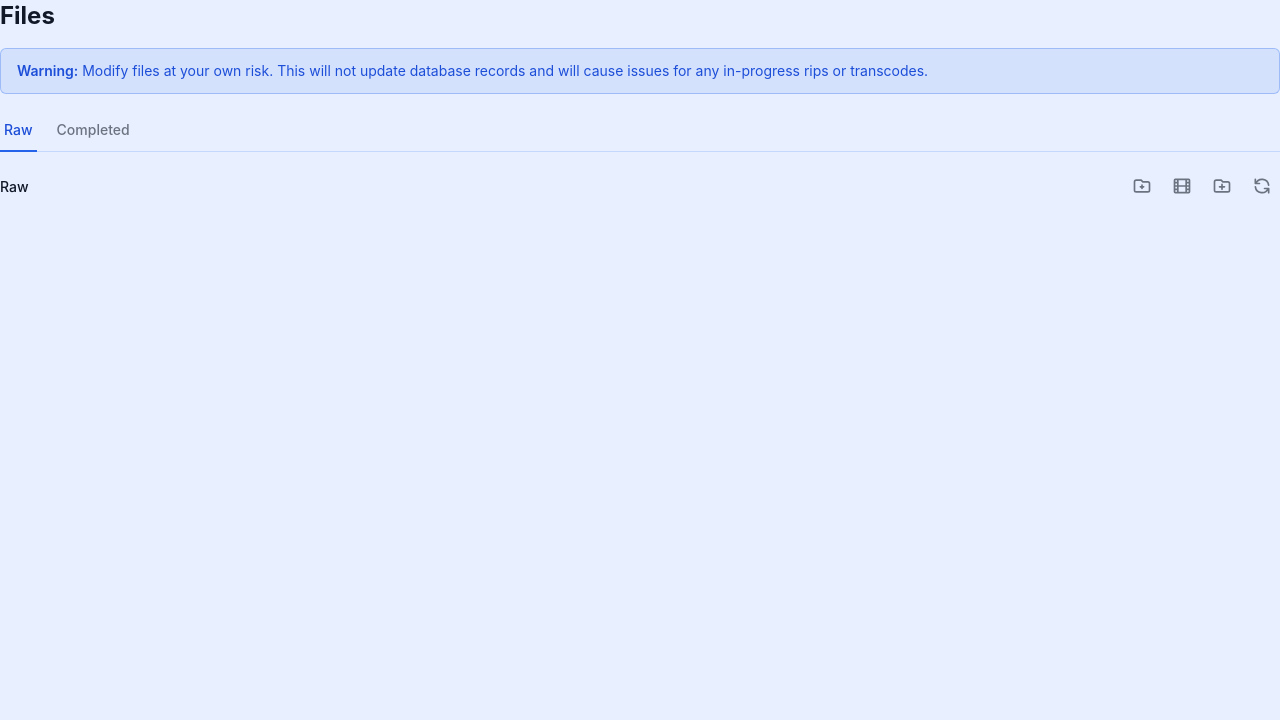
Files Page › orphan folders › opens orphan folders modal when clicked
Click the button titled "Orphan folders" at coordinates (1142, 186), box x1=1124 y1=168 x2=1160 y2=204
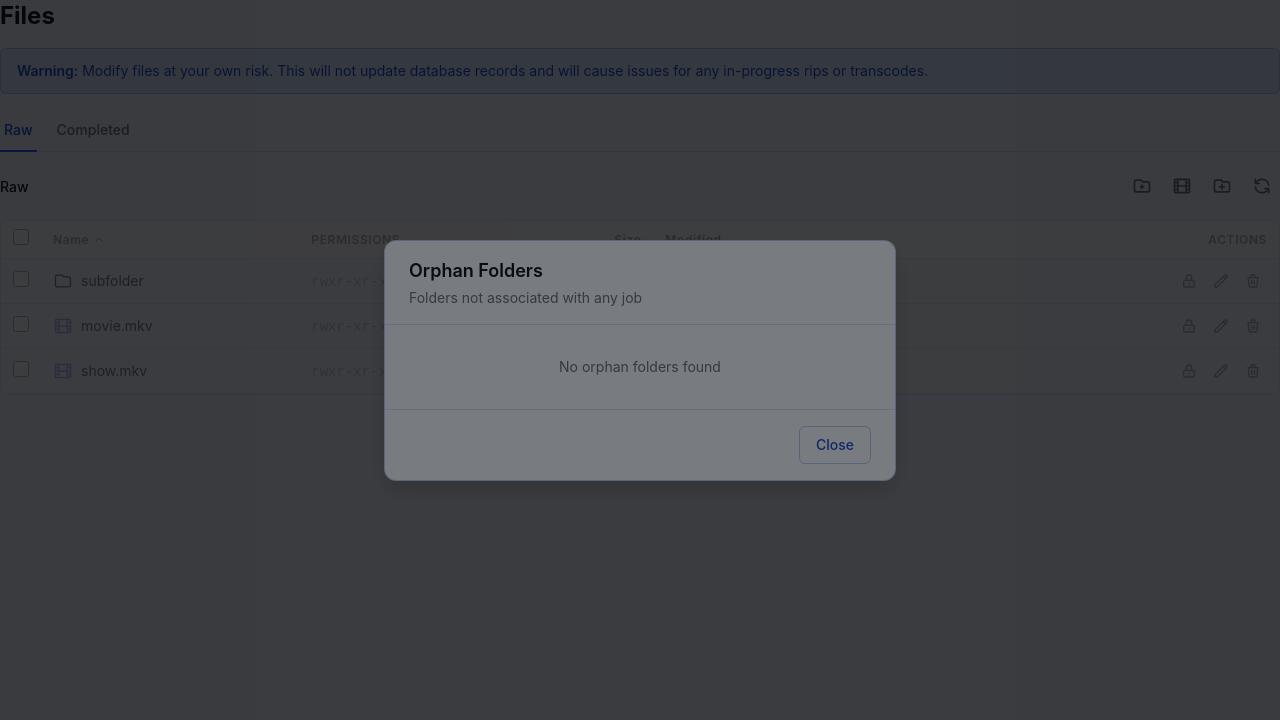
Result: the heading "Orphan Folders" is shown at x1=409 y1=260 x2=543 y2=280
Result: the text "Folders not associated with any job" is shown at x1=409 y1=288 x2=642 y2=306
